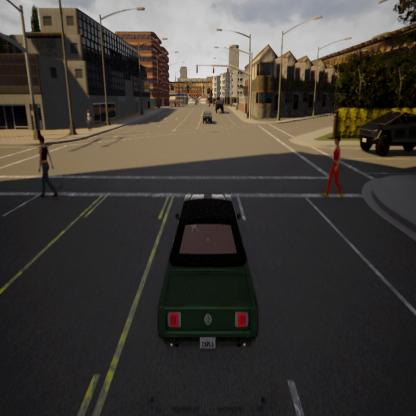Cars: (153, 188, 262, 354), (360, 108, 416, 161), (215, 96, 225, 115), (203, 108, 212, 123)
Pedestrian: (36, 131, 58, 205), (324, 129, 345, 205)
